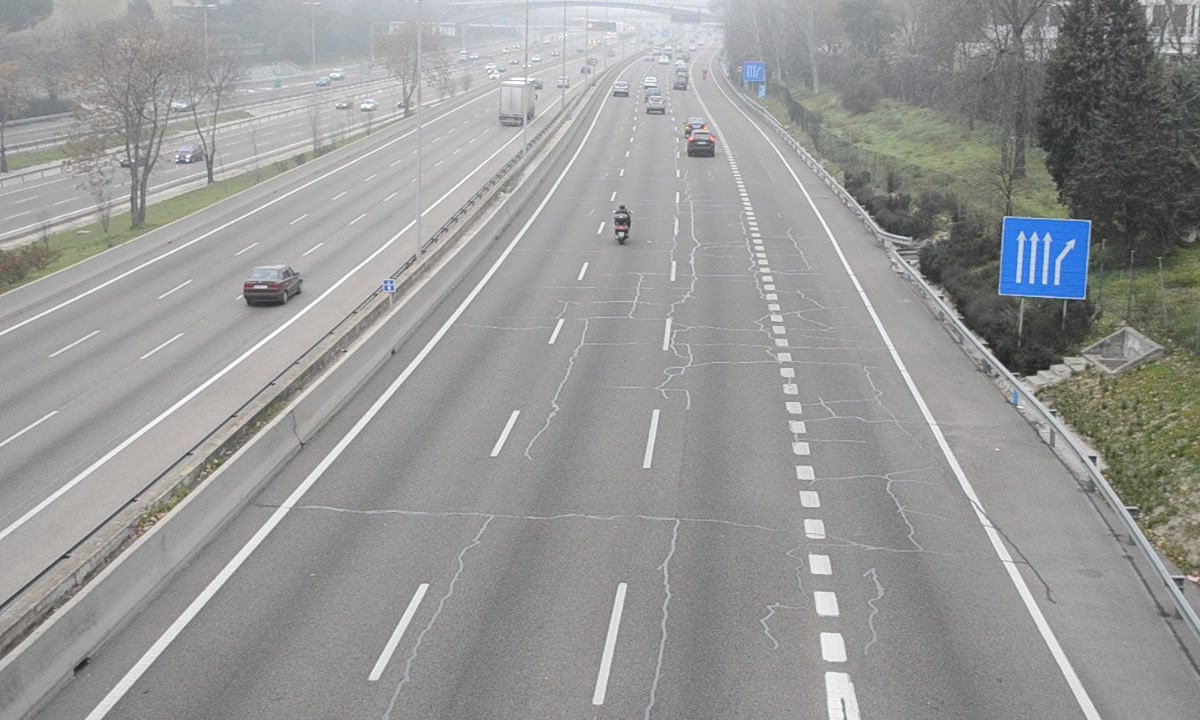car: (688, 130, 716, 158)
motorcycle: (612, 204, 631, 245)
